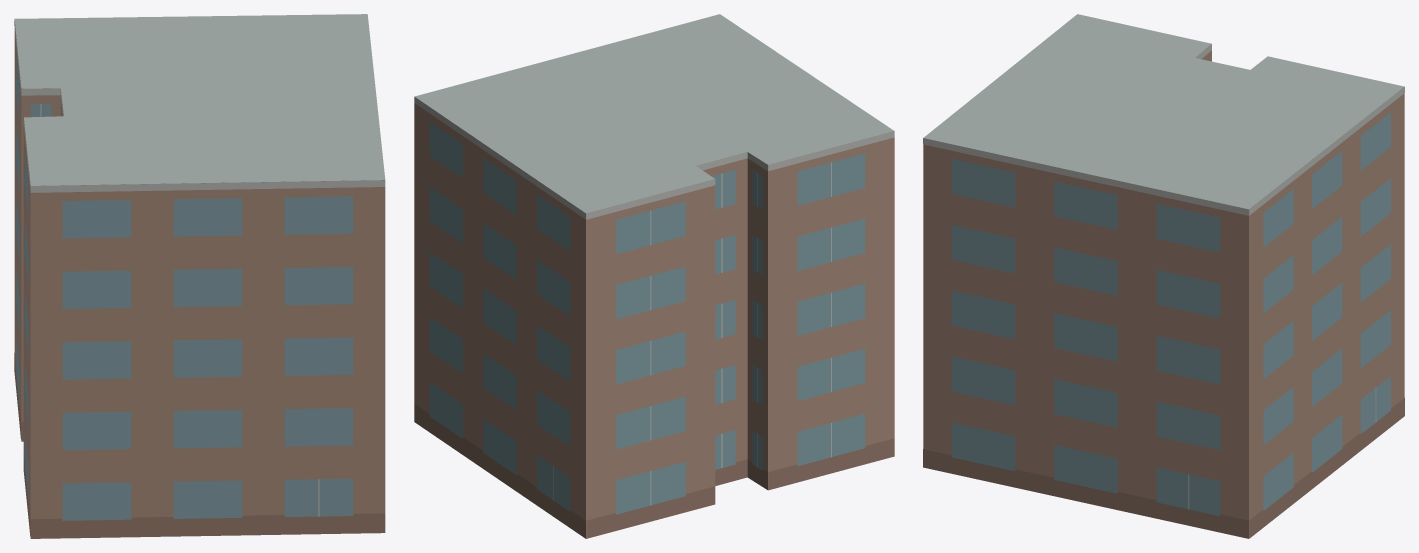
File: survey-upis-32722728.glb
3 renders of one model, left to right at view 1: azimuth 30°, elevation 25°; view 2: azimuth 150°, elevation 25°; view 3: azimuth 270°, elevation 25°, orthographic. The views are drawn at different scales.
Parts seen in each view (by area): view 1: survey-upis-32722728.tmp; view 2: survey-upis-32722728.tmp; view 3: survey-upis-32722728.tmp.
Boxes of the visible parts, x1=… form: survey-upis-32722728.tmp: x1=14, y1=14, x2=385, y2=538; survey-upis-32722728.tmp: x1=414, y1=14, x2=894, y2=538; survey-upis-32722728.tmp: x1=923, y1=14, x2=1404, y2=538.
Size of the model in its own units: 15.86 by 12.46 by 16.52.
